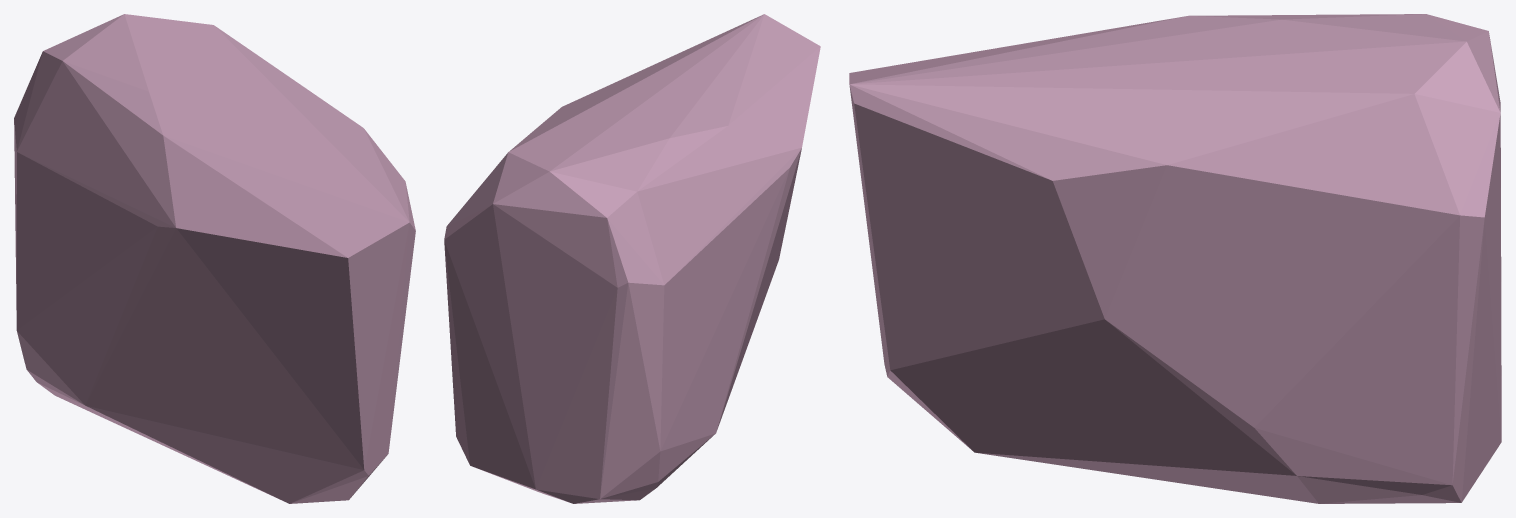
File: consumable_transmission_fluid_a01.glb
The picture shows the model from 3 angles, left to right: view 1: azimuth 30°, elevation 25°; view 2: azimuth 150°, elevation 25°; view 3: azimuth 270°, elevation 25°; orthographic projection. The views are drawn at different scales.
Parts seen in each view (by area): view 1: geometry_0; view 2: geometry_0; view 3: geometry_0.
Boxes of the visible parts, left/top/right/bottom form: geometry_0: left=14, top=14, right=415, bottom=503; geometry_0: left=444, top=14, right=820, bottom=503; geometry_0: left=849, top=14, right=1501, bottom=503.
Bounding box in the file's own units: 0.2339 × 0.3532 × 0.4798.
